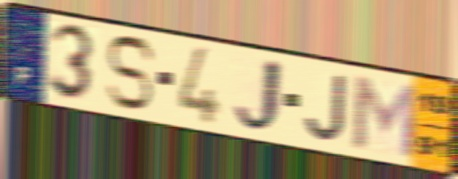3: (43, 22, 101, 105)
4: (176, 44, 224, 128)
J: (230, 55, 286, 137), (303, 71, 349, 144)
M: (350, 71, 419, 162)
S: (103, 33, 158, 113)
